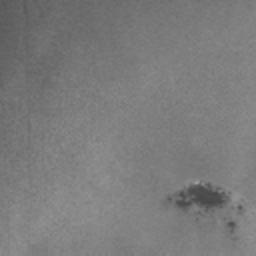Iron sheet ash: (164, 182, 233, 214), (225, 220, 238, 234), (237, 205, 244, 212)
